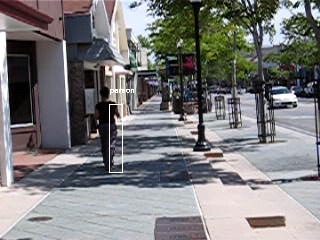person: (94, 86, 121, 172), (93, 86, 120, 172), (95, 86, 122, 172), (94, 85, 121, 171), (94, 87, 121, 173)
target_negative: (52, 196, 157, 223), (61, 216, 197, 236), (139, 197, 234, 225), (231, 93, 247, 203), (312, 26, 318, 187), (286, 188, 313, 216)
